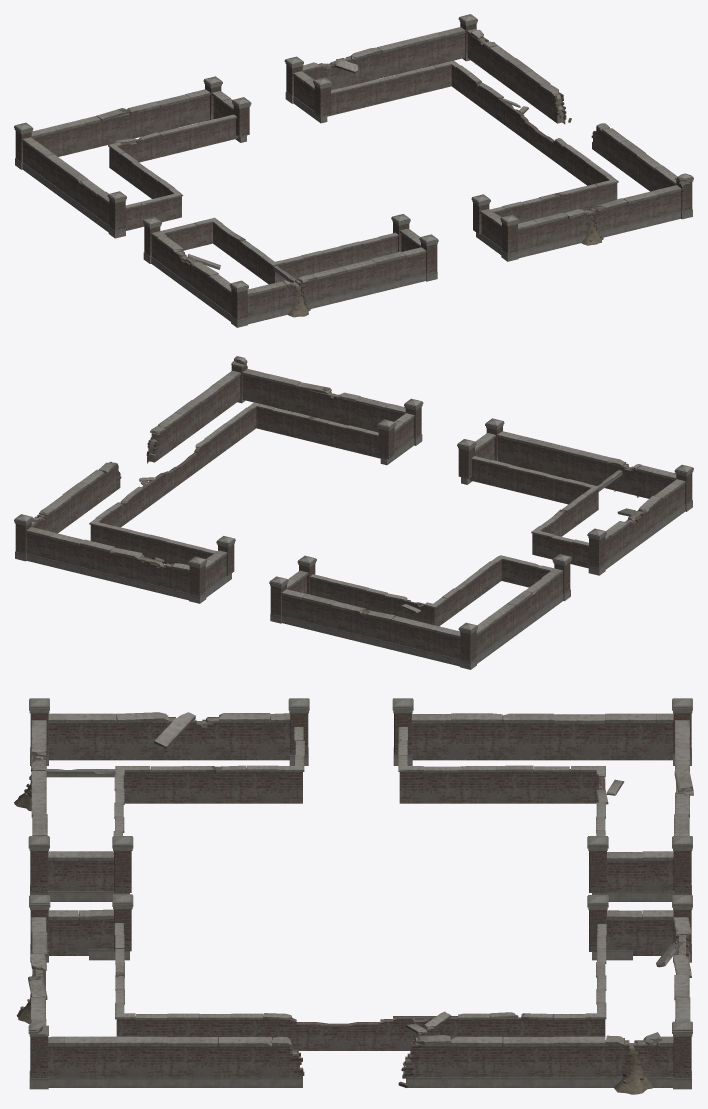
Rendered from Cemetery_STR_GraveBase_03_Wall_01.fbx.
3 renders of one model, top to bottom at view 1: azimuth 30°, elevation 25°; view 2: azimuth 150°, elevation 25°; view 3: azimuth 270°, elevation 25°, orthographic. The views are drawn at different scales.
Visible parts, largest first — view 1: Cemetery_STR_GraveBase_03_Wall_01; view 2: Cemetery_STR_GraveBase_03_Wall_01; view 3: Cemetery_STR_GraveBase_03_Wall_01.
Part boxes in pixels (x1,y1,x2,y2): Cemetery_STR_GraveBase_03_Wall_01: (14, 14, 693, 327); Cemetery_STR_GraveBase_03_Wall_01: (14, 356, 693, 669); Cemetery_STR_GraveBase_03_Wall_01: (14, 698, 693, 1094).
Size of the model in its own units: 2492 by 213 by 2115.
Materials: 1 (1 with a texture image).
